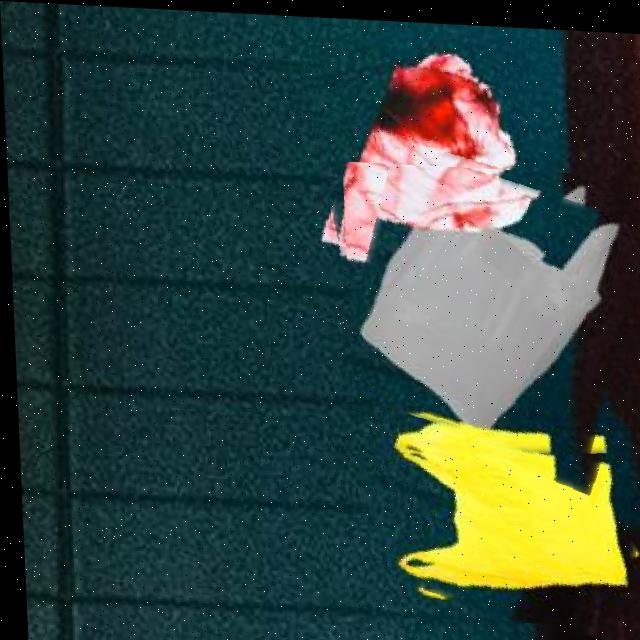plasticcover: (341, 157, 640, 461), (351, 376, 640, 621), (306, 21, 533, 275)
